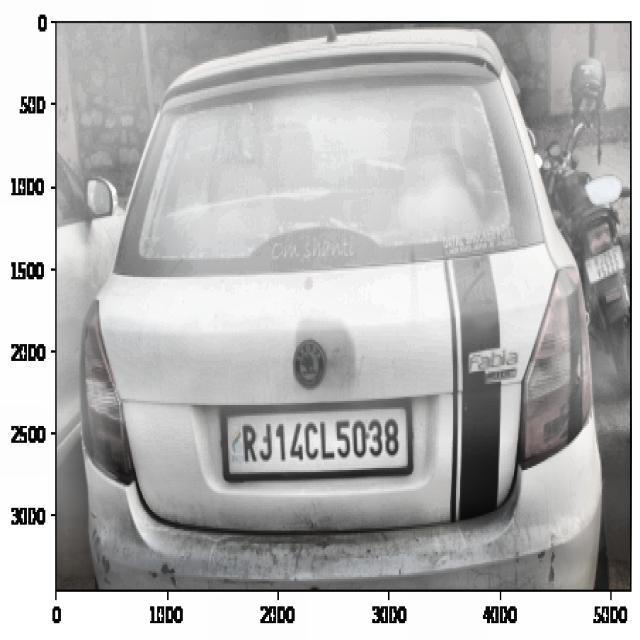license_plate: (235, 413, 402, 474)
